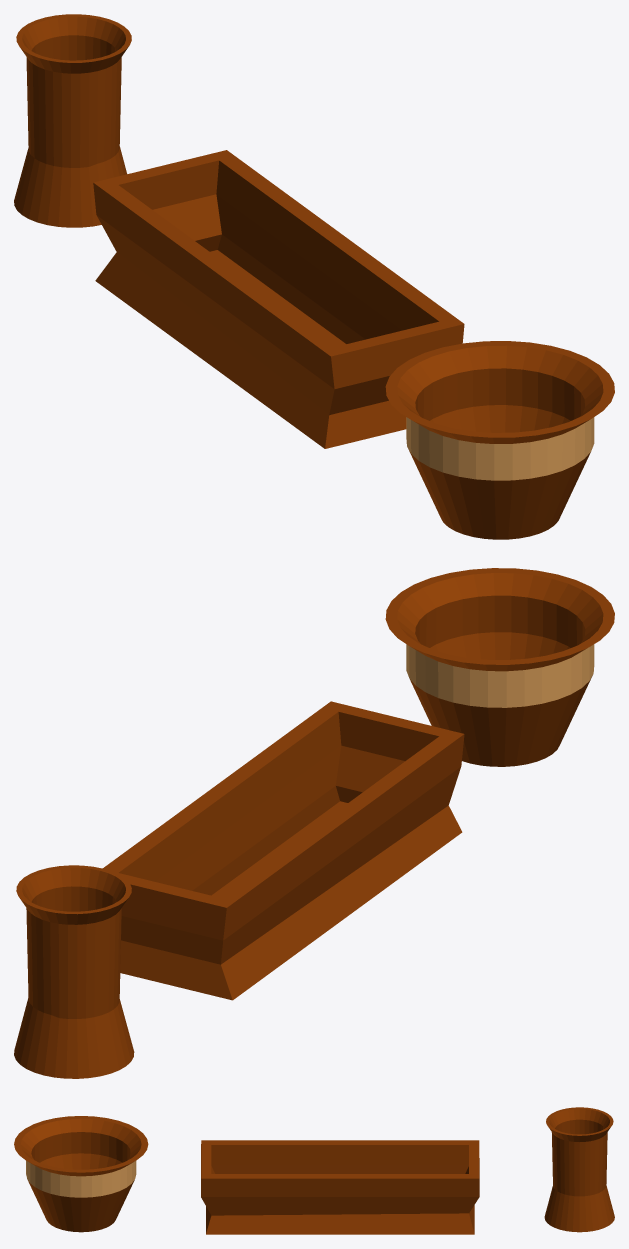
The model's file is 30_03_2020_floreros.fbx.
3 views of the same model, one above another, from view 1: azimuth 30°, elevation 25°; view 2: azimuth 150°, elevation 25°; view 3: azimuth 270°, elevation 25° (orthographic). The views are drawn at different scales.
Parts seen in each view (by area): view 1: Cube, Cylinder, Cylinder.001; view 2: Cube, Cylinder, Cylinder.001; view 3: Cube, Cylinder, Cylinder.001.
Part boxes in pixels (x1,y1,x2,y2): Cube: (93,150,464,448); Cylinder: (385,341,614,539); Cylinder.001: (14,14,131,227); Cube: (103,701,464,1000); Cylinder: (385,568,614,766); Cylinder.001: (14,865,134,1078); Cube: (201,1140,479,1234); Cylinder: (14,1116,148,1232); Cylinder.001: (544,1107,614,1232).
Bounding box in the file's own units: 170 × 134 × 761.
